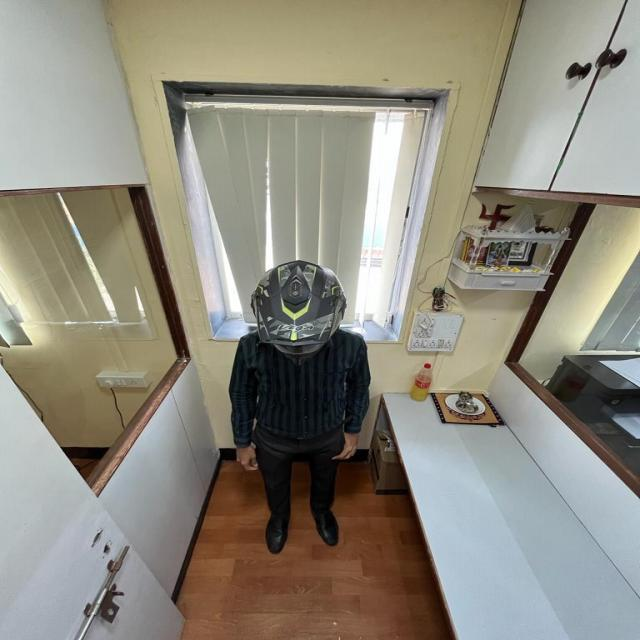helmet on: (229, 260, 371, 557)
